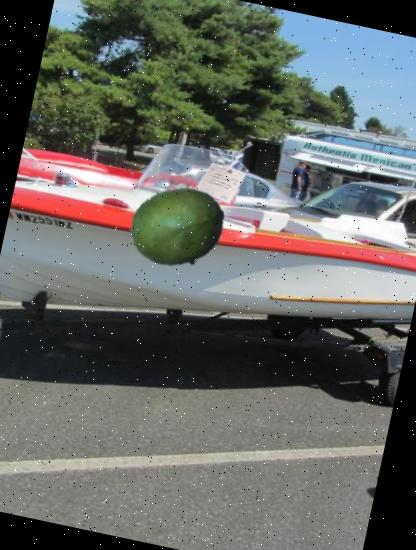Mango: (121, 172, 234, 285)
